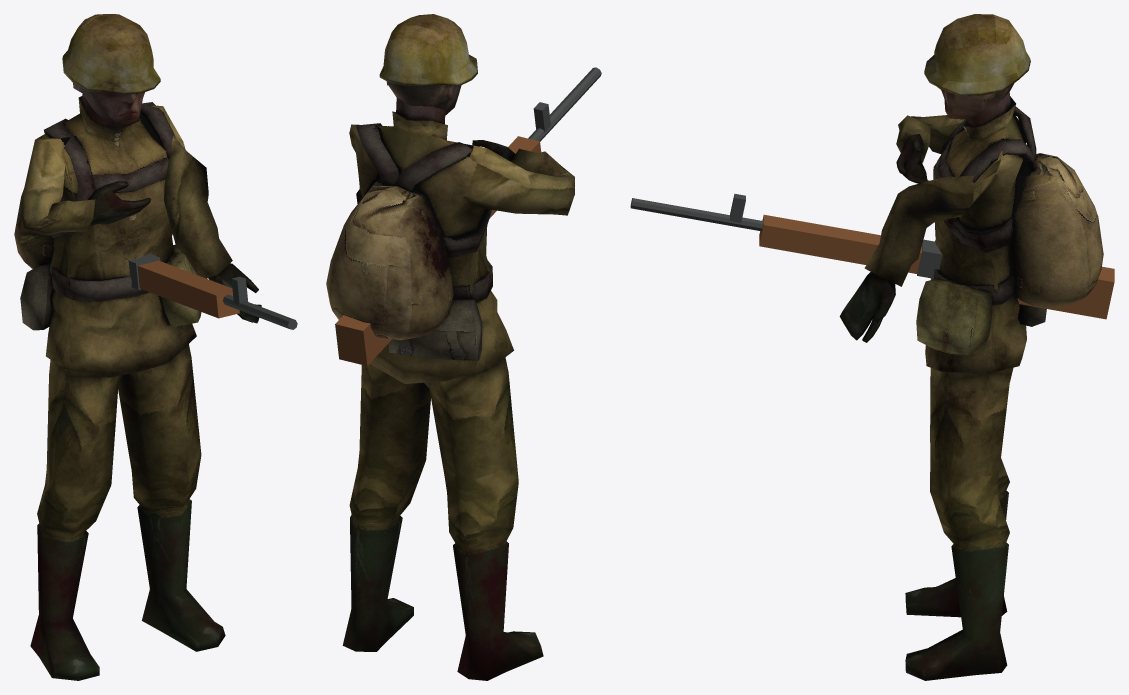
File: soviet_ww2_soldier_idle_01.glb
3 renders of one model, left to right at view 1: azimuth 30°, elevation 25°; view 2: azimuth 150°, elevation 25°; view 3: azimuth 270°, elevation 25°, orthographic. The views are drawn at different scales.
Parts seen in each view (by area): view 1: final_Static, SovietRifle_Generated; view 2: final_Static, SovietRifle_Generated; view 3: final_Static, SovietRifle_Generated.
Boxes of the visible parts, box(x1,y1,x2,y2) form: final_Static: box(14, 14, 261, 680); SovietRifle_Generated: box(128, 254, 297, 329); final_Static: box(326, 14, 574, 680); SovietRifle_Generated: box(335, 67, 601, 365); final_Static: box(839, 14, 1103, 680); SovietRifle_Generated: box(630, 193, 1114, 319).
Size of the model in its own units: 0.6224 by 1.72 by 1.22.
Materials: 3 (1 with a texture image).
